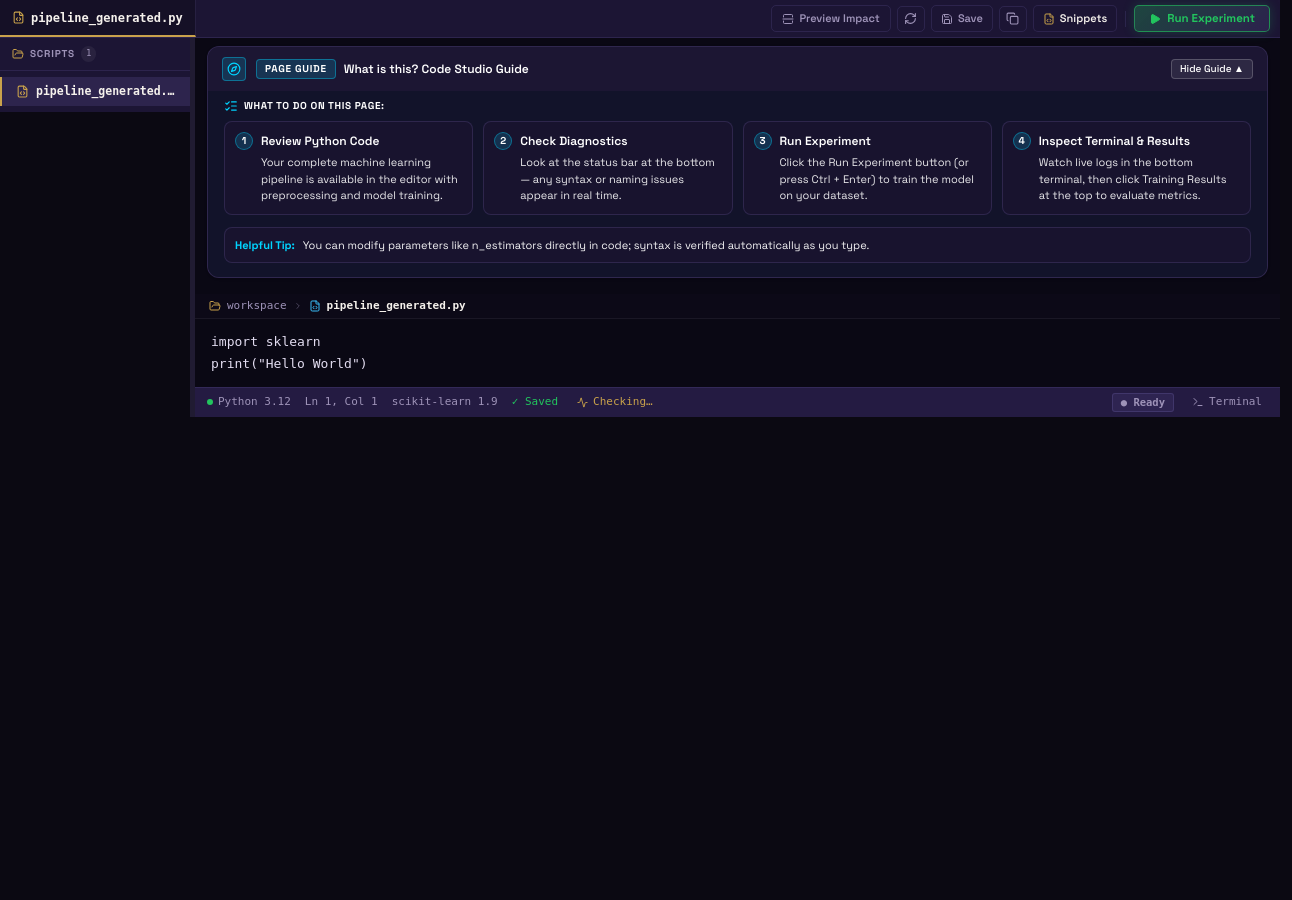
Test: Phase 3: Execution Sandbox & Output Streaming Integration › renders interactive jumpable traceback lines and centers cursor when clicked
Click the button with aria-label "run code": coordinates (1202, 19) [1134, 5, 1270, 32]
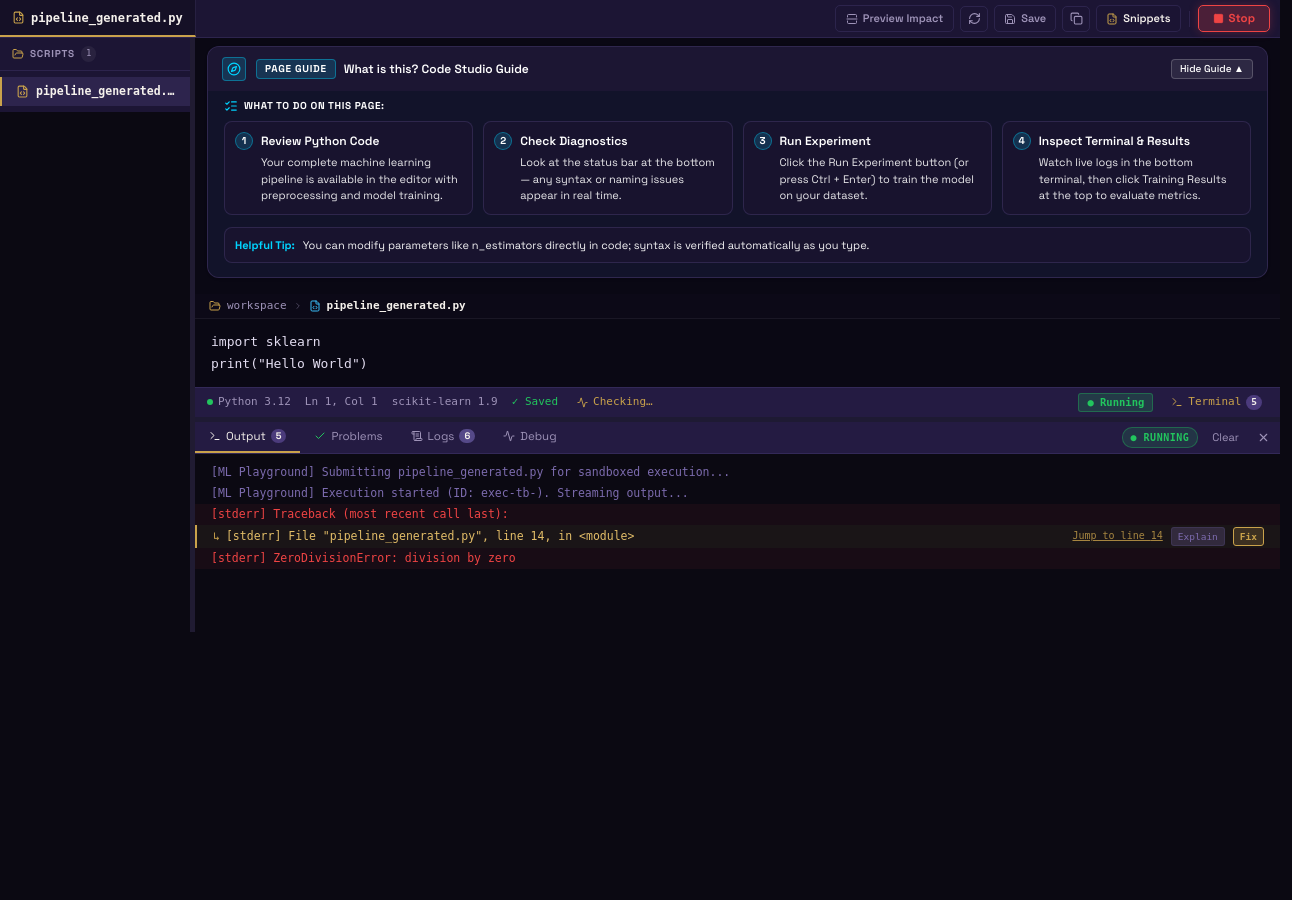
Check: the text "Jump to line 14" is shown
Click the text "Jump to line 14": coordinates (1118, 537) [1072, 528, 1163, 545]
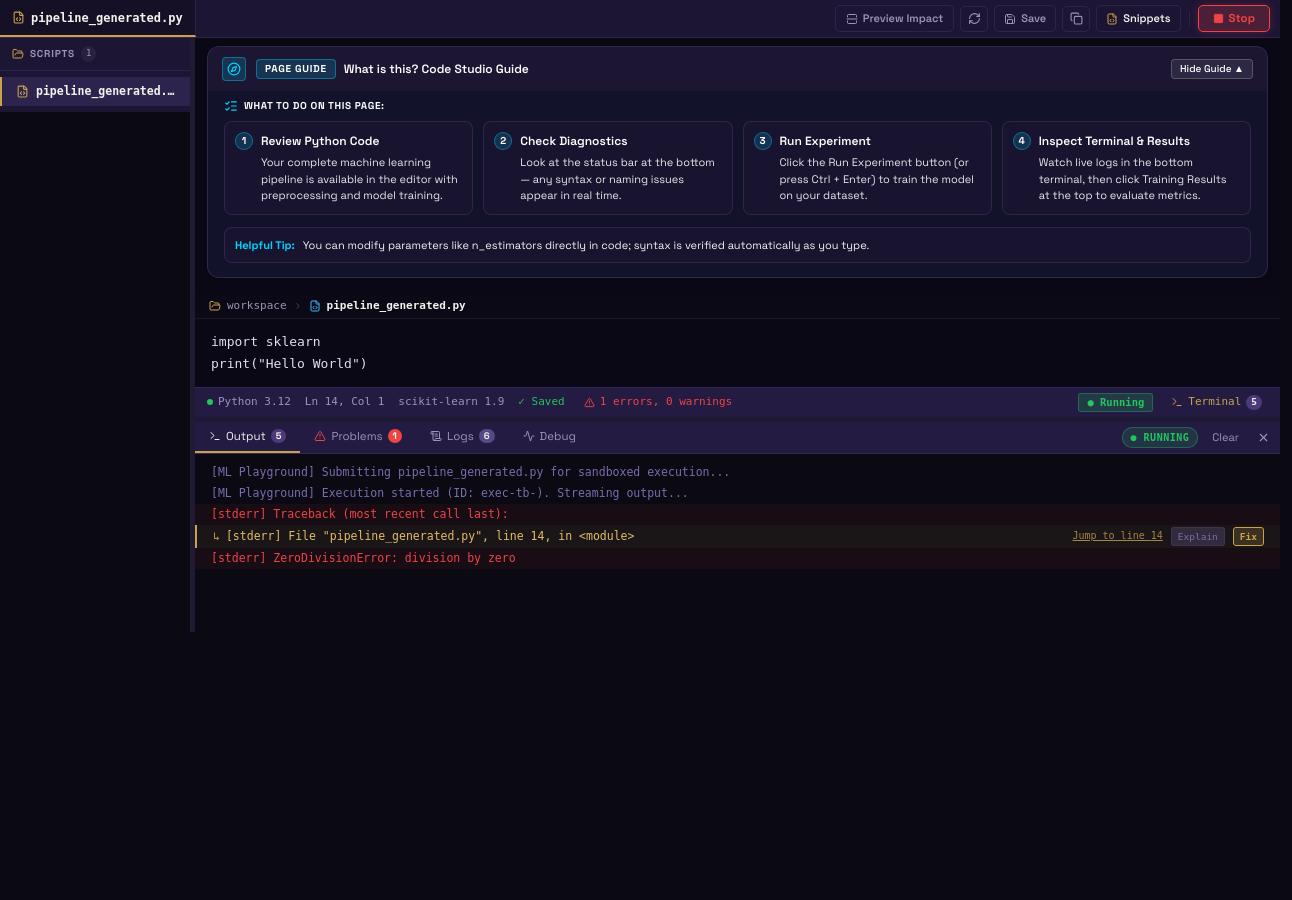
Check: the text "Ln 14, Col 1" is shown, box [305, 394, 384, 411]
